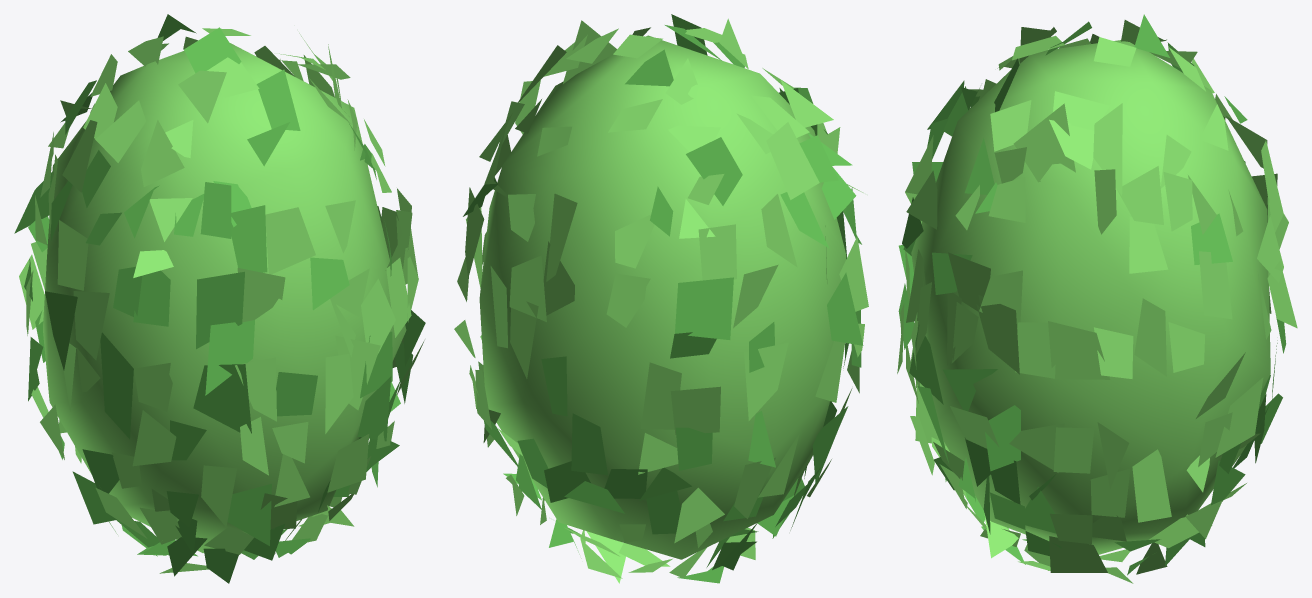
File: bush2.fbx
The picture shows the model from 3 angles, left to right: view 1: azimuth 30°, elevation 25°; view 2: azimuth 150°, elevation 25°; view 3: azimuth 270°, elevation 25°; orthographic projection.
Parts seen in each view (by area): view 1: Bush2; view 2: Bush2; view 3: Bush2.
Boxes of the visible parts, x1,y1,x2,y2 form: Bush2: (14, 14, 425, 583); Bush2: (454, 14, 868, 583); Bush2: (897, 14, 1297, 583).
Bounding box in the file's own units: 1.89 × 1.87 × 2.81.
